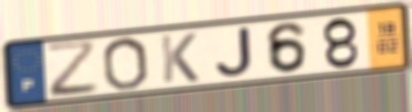6: (263, 20, 308, 75)
8: (320, 16, 360, 69)
J: (213, 25, 254, 80)
K: (158, 31, 201, 85)
O: (100, 35, 151, 92)
Z: (42, 37, 102, 100)
